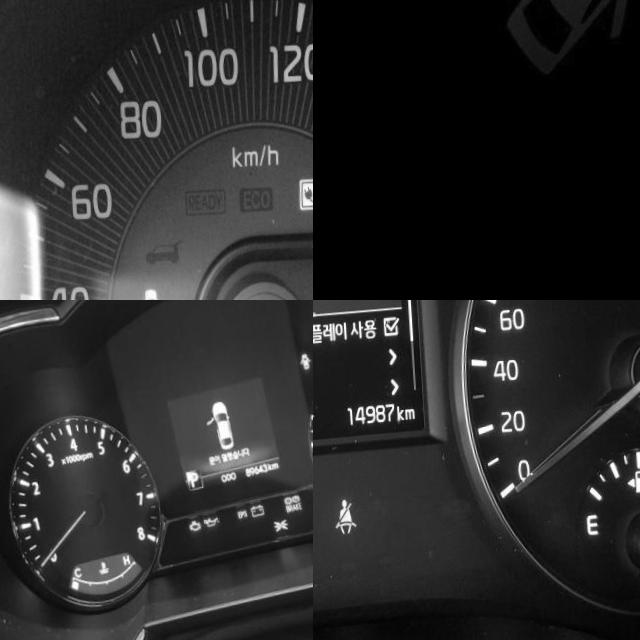Doors: (295, 360, 310, 379)
SideLamp: (266, 523, 284, 541)
